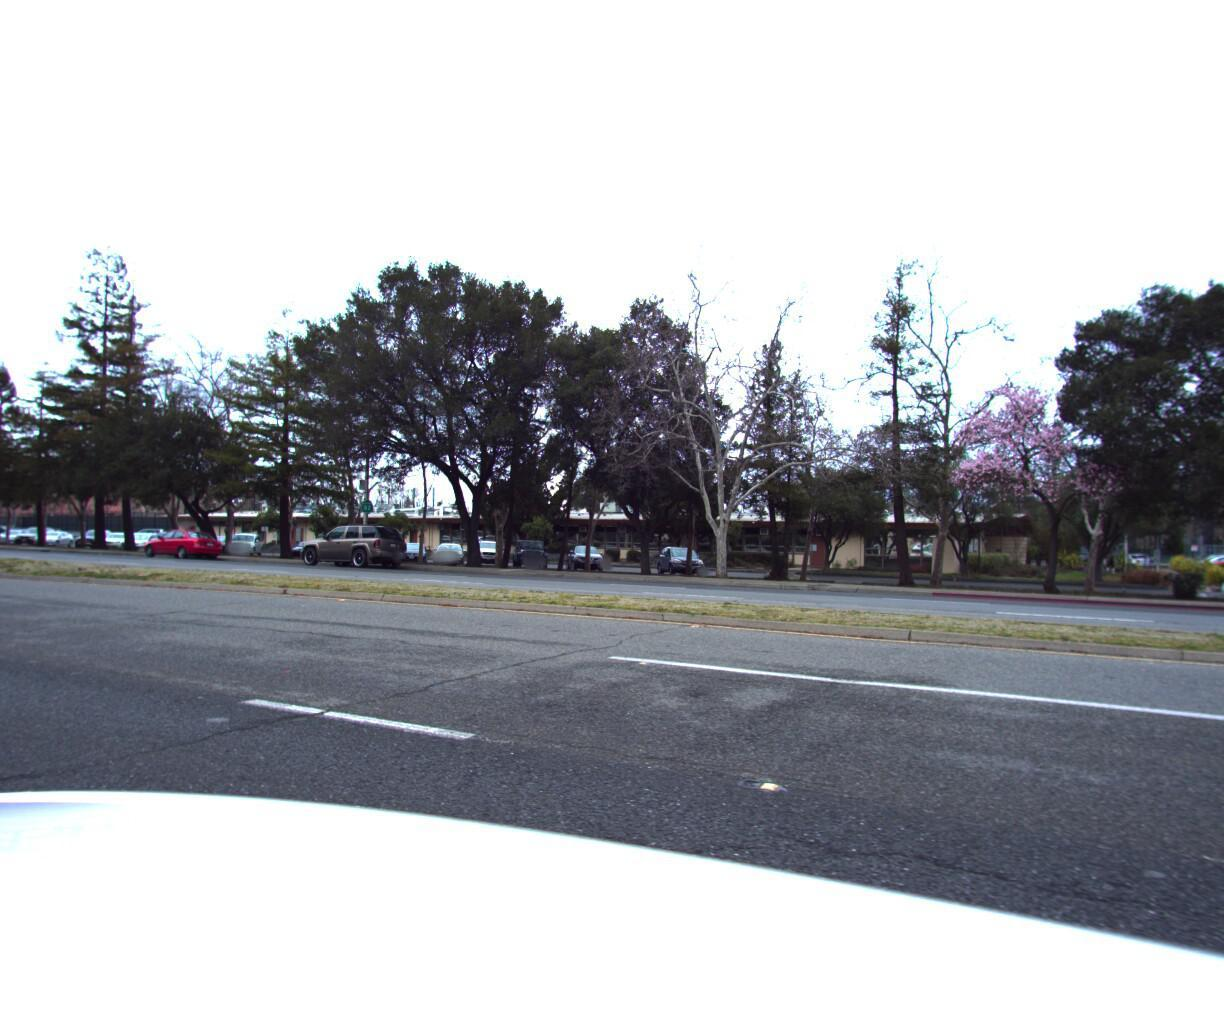car: (296, 529, 412, 579), (141, 538, 229, 568)
